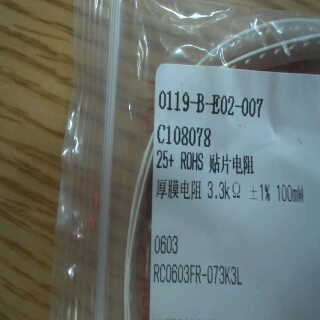3.3kO: (203, 175, 244, 207)
